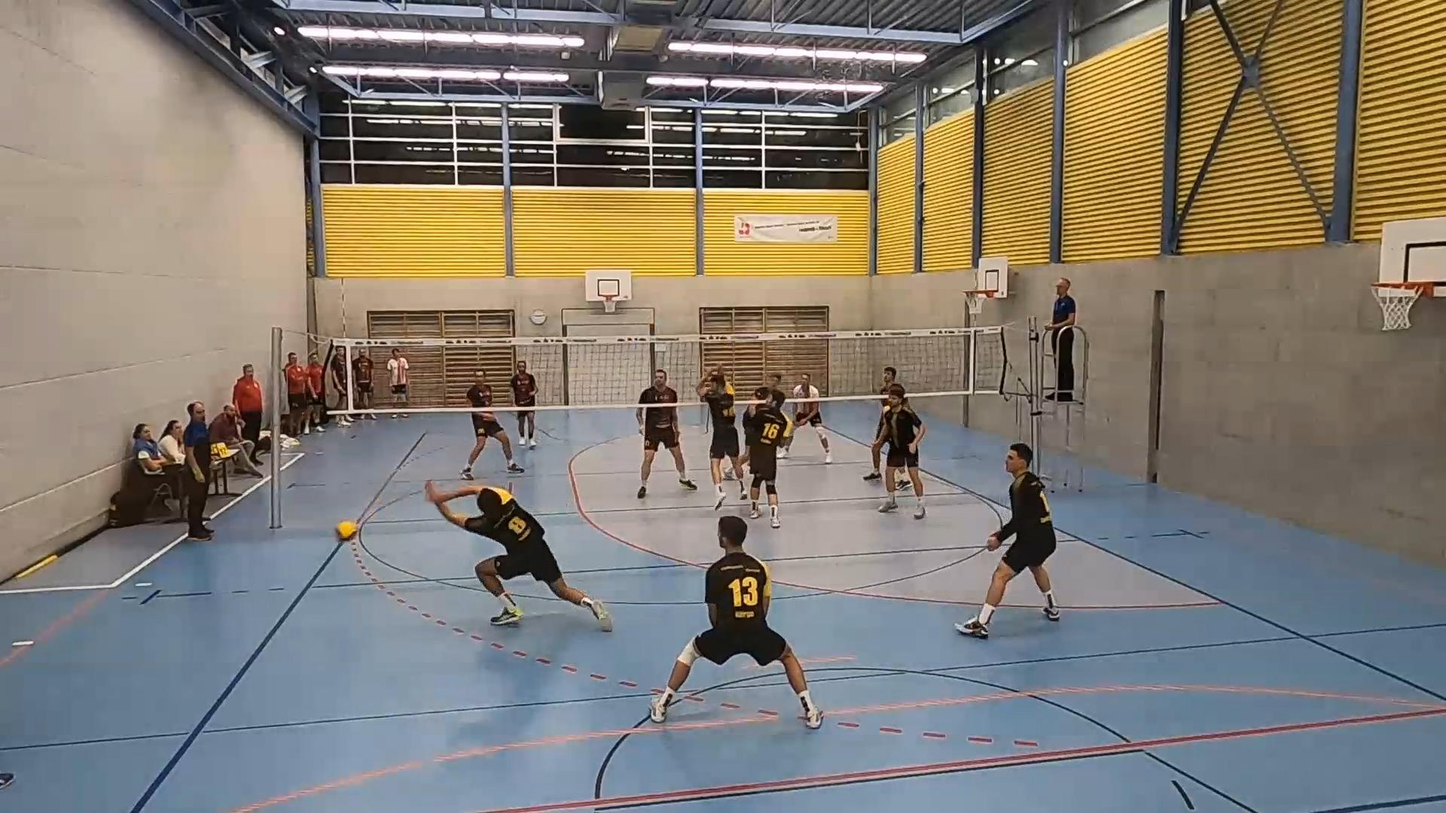difesa: (421, 477, 619, 632)
